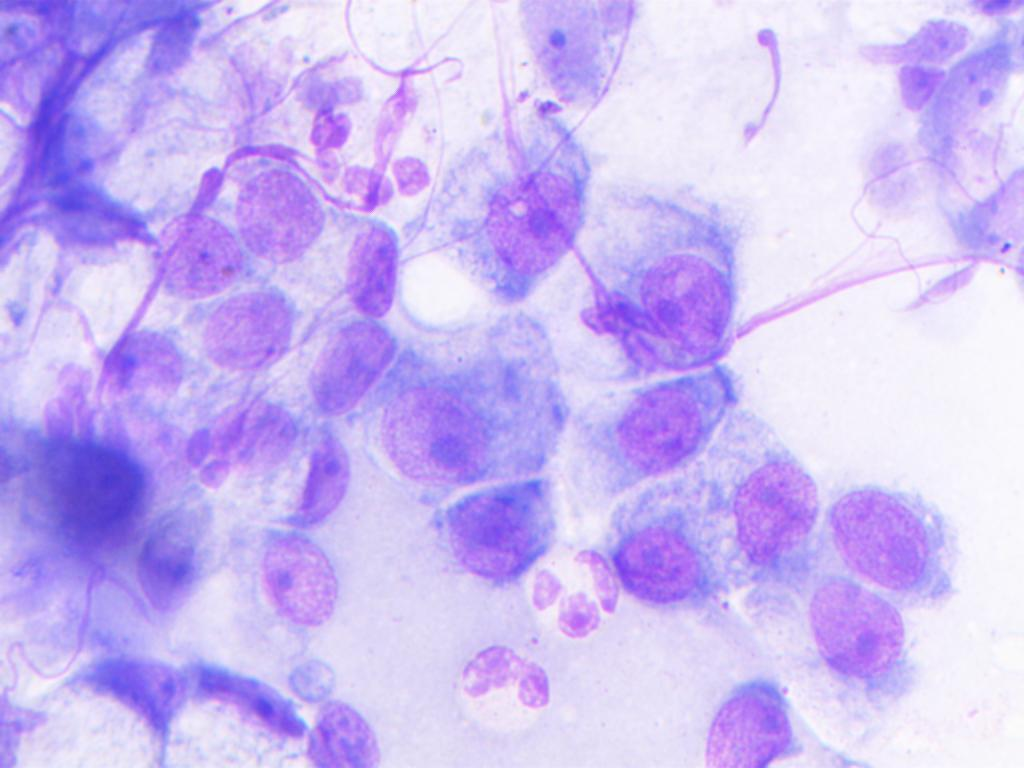epithelial: (426, 108, 599, 301), (818, 474, 974, 611), (581, 368, 754, 491), (366, 362, 519, 493), (18, 408, 155, 554), (705, 437, 817, 582), (790, 572, 910, 690), (438, 472, 554, 592), (235, 140, 334, 275), (137, 186, 240, 309), (237, 520, 350, 629), (304, 306, 398, 429), (76, 309, 192, 408), (635, 243, 740, 348), (181, 293, 304, 377), (699, 665, 794, 768), (193, 397, 297, 482), (337, 222, 410, 330), (289, 690, 384, 768), (617, 519, 699, 603)
goblet_cell: (18, 657, 186, 768)
neutrophil: (308, 106, 428, 211), (522, 532, 622, 641), (458, 638, 563, 732)
